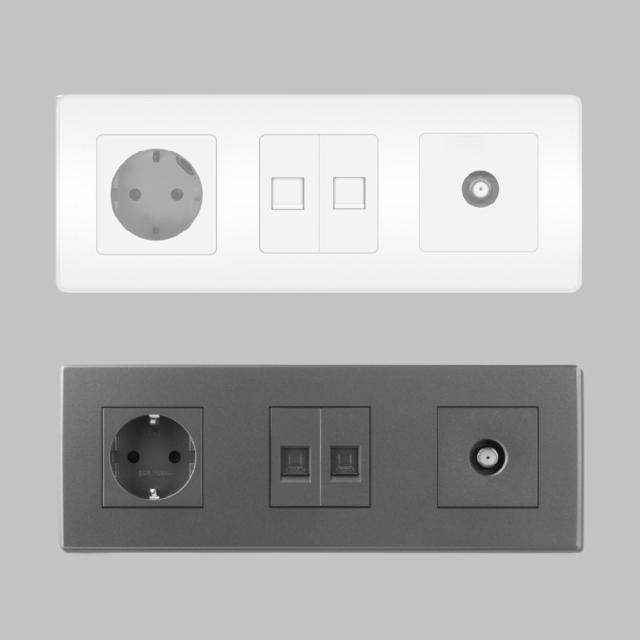typeb: (62, 99, 247, 287), (245, 372, 255, 383)
